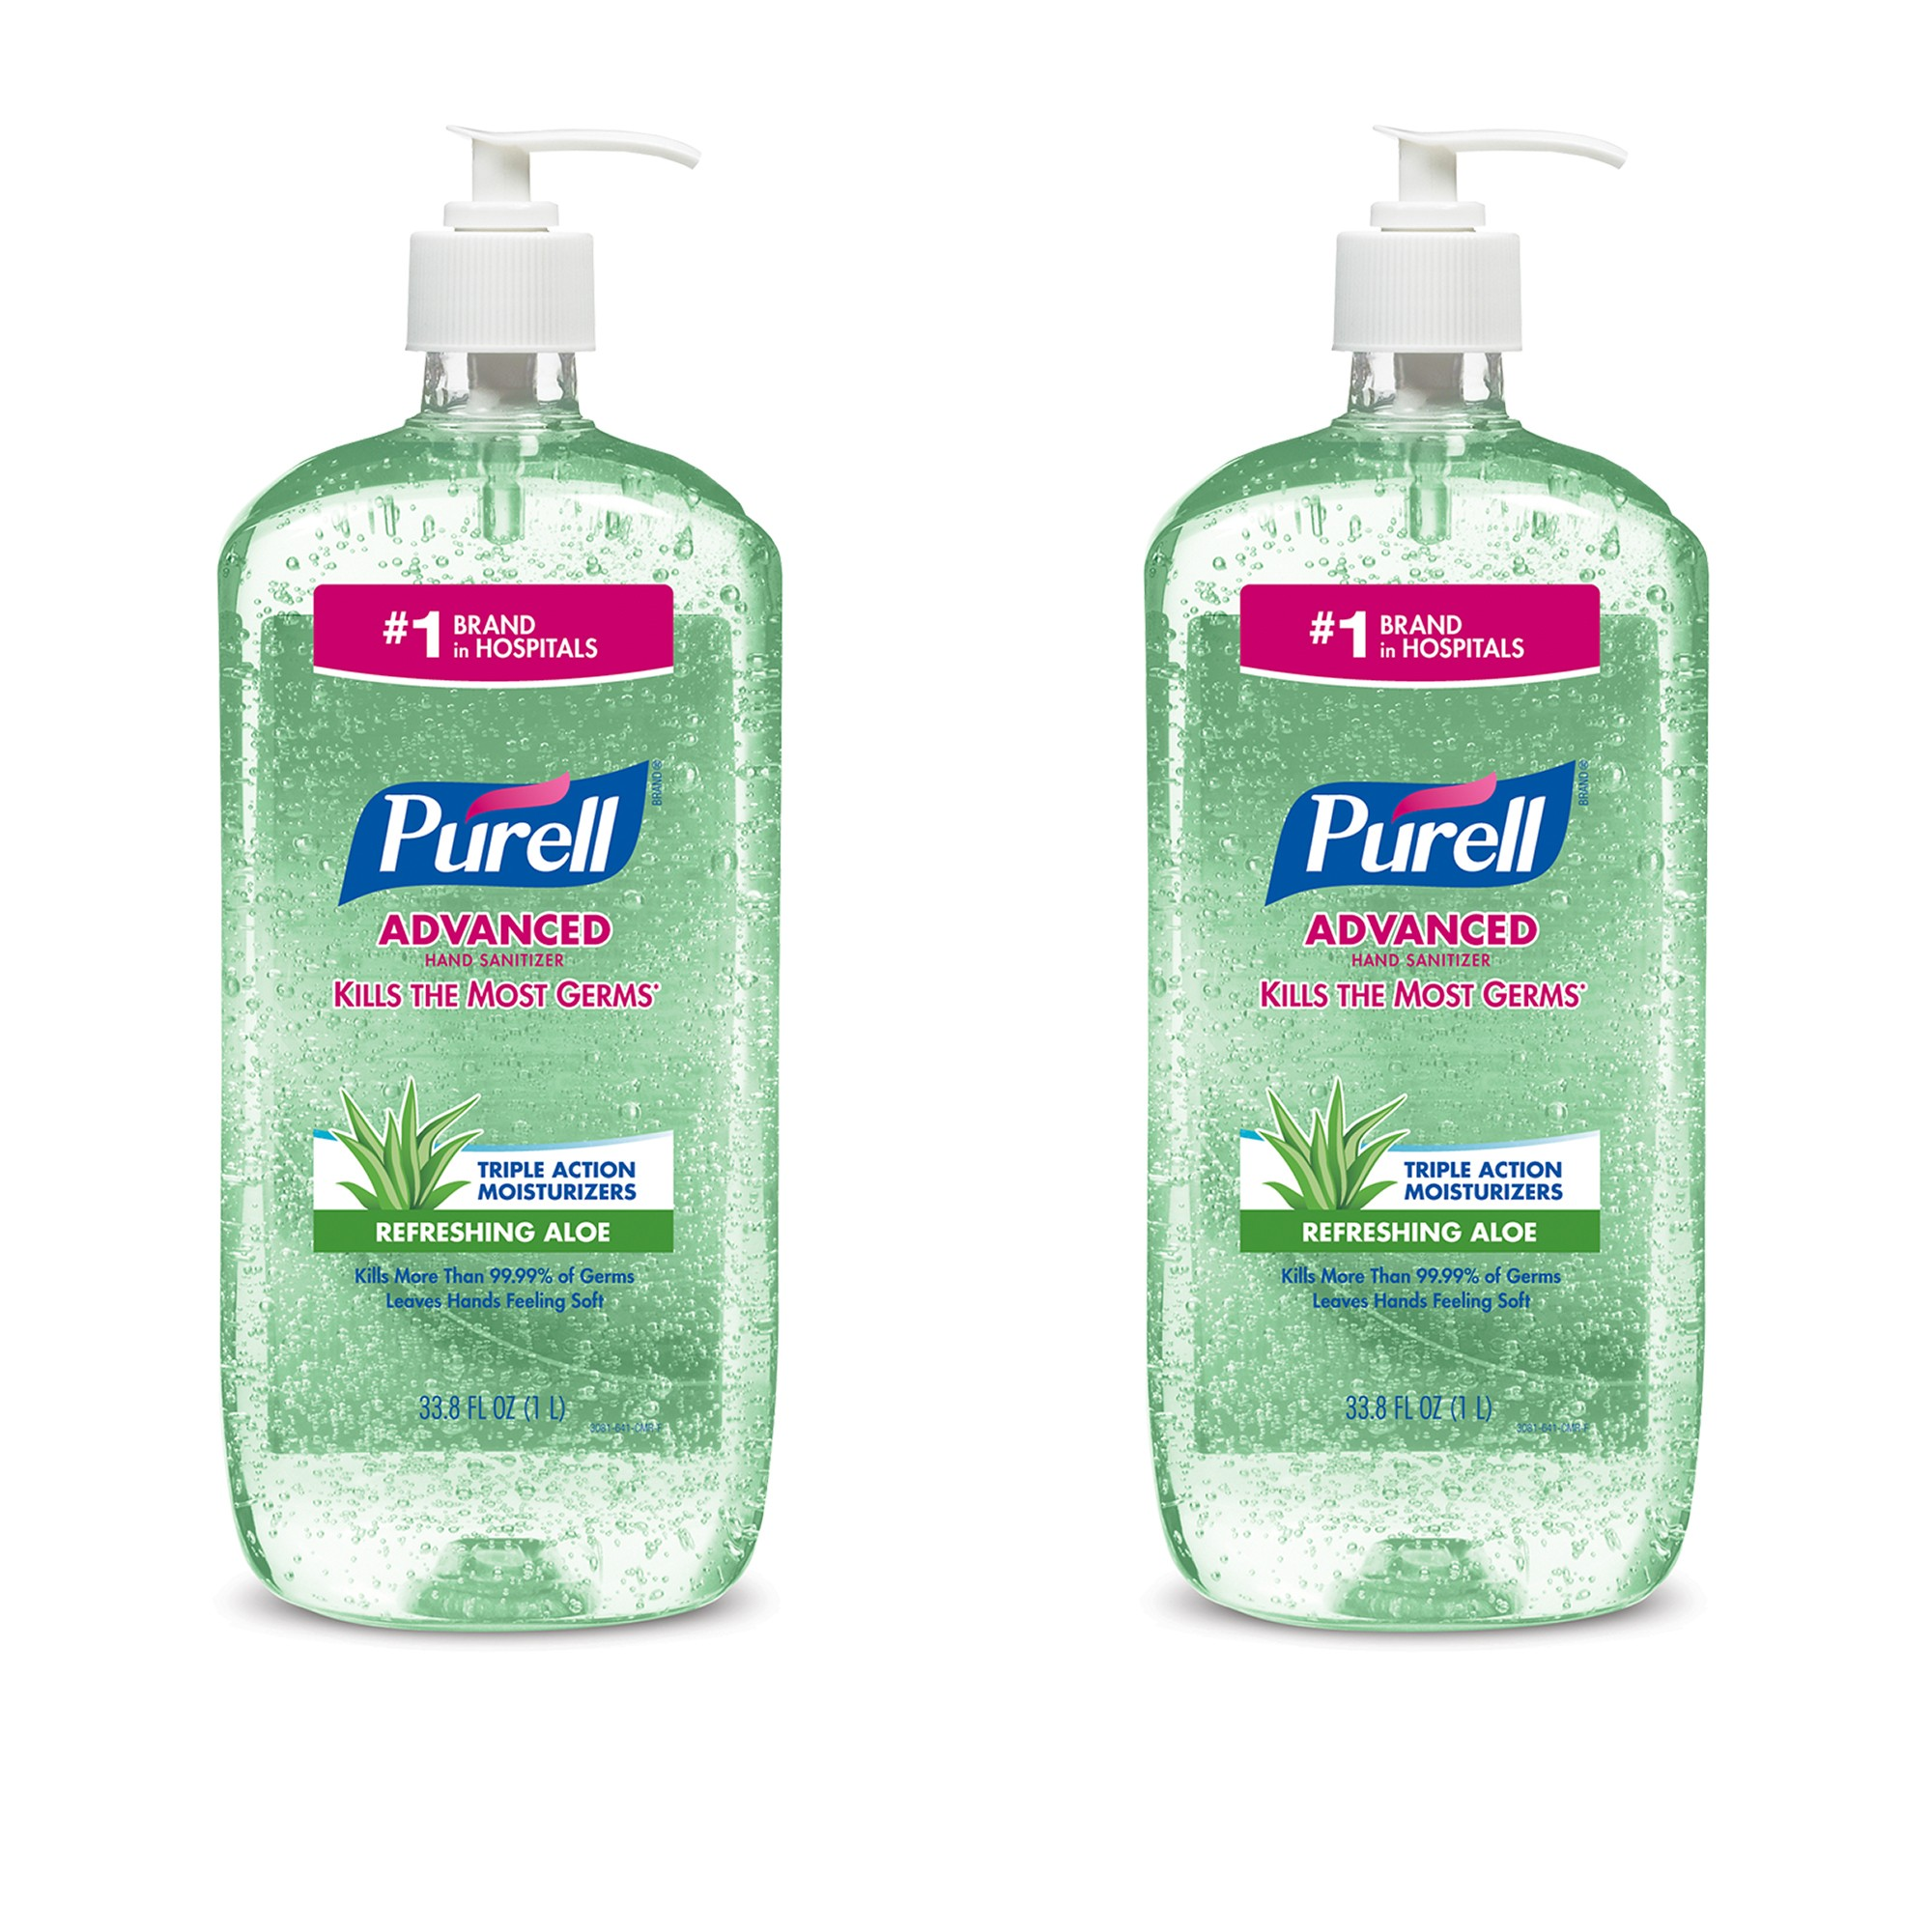Sanitizer: (1106, 110, 1759, 1660), (186, 85, 821, 1663)
